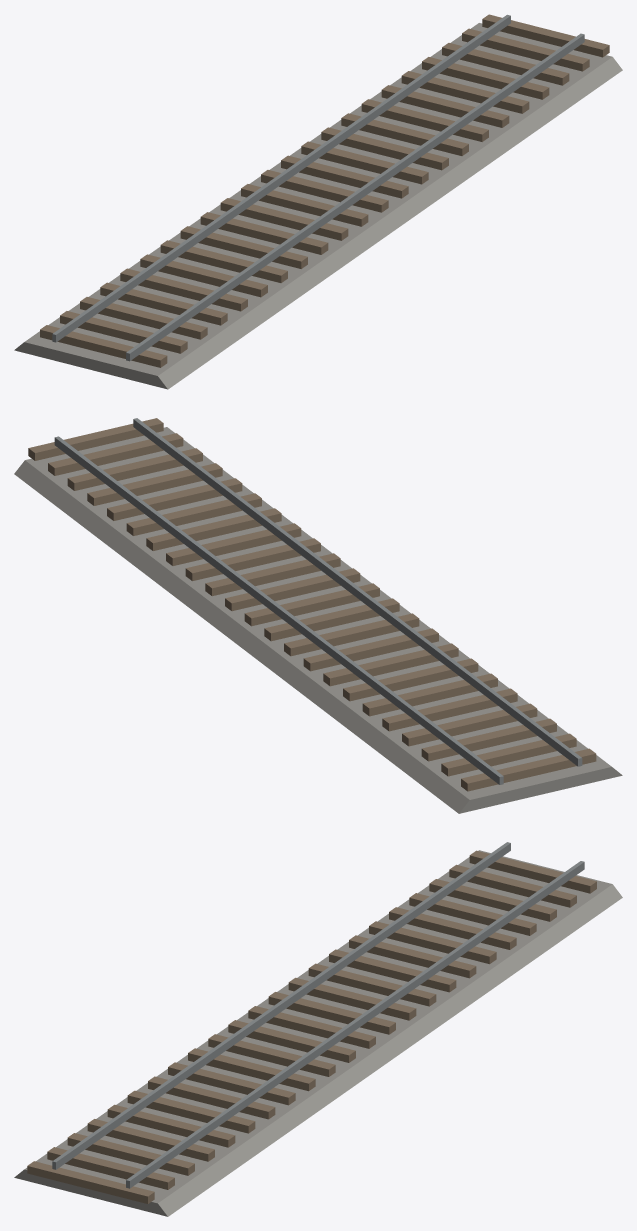
Rendered from rail_01200.glb.
The picture shows the model from 3 angles, top to bottom: view 1: azimuth 90°, elevation 25°; view 2: azimuth 150°, elevation 25°; view 3: azimuth 270°, elevation 25°; orthographic projection. The views are drawn at different scales.
Parts seen in each view (by area): view 1: Sleepers, Ballast, Rails; view 2: Sleepers, Ballast, Rails; view 3: Sleepers, Ballast, Rails.
Boxes of the visible parts, box(x1,y1,x2,y2) form: Sleepers: box(40, 14, 609, 367); Ballast: box(14, 23, 622, 389); Rails: box(52, 14, 584, 361); Sleepers: box(28, 418, 596, 791); Ballast: box(14, 427, 622, 813); Rails: box(54, 418, 582, 784); Sleepers: box(27, 850, 596, 1203); Ballast: box(14, 850, 622, 1216); Rails: box(52, 842, 584, 1188).
Bounding box in the file's own units: 14.15 × 0.48 × 10.16.
